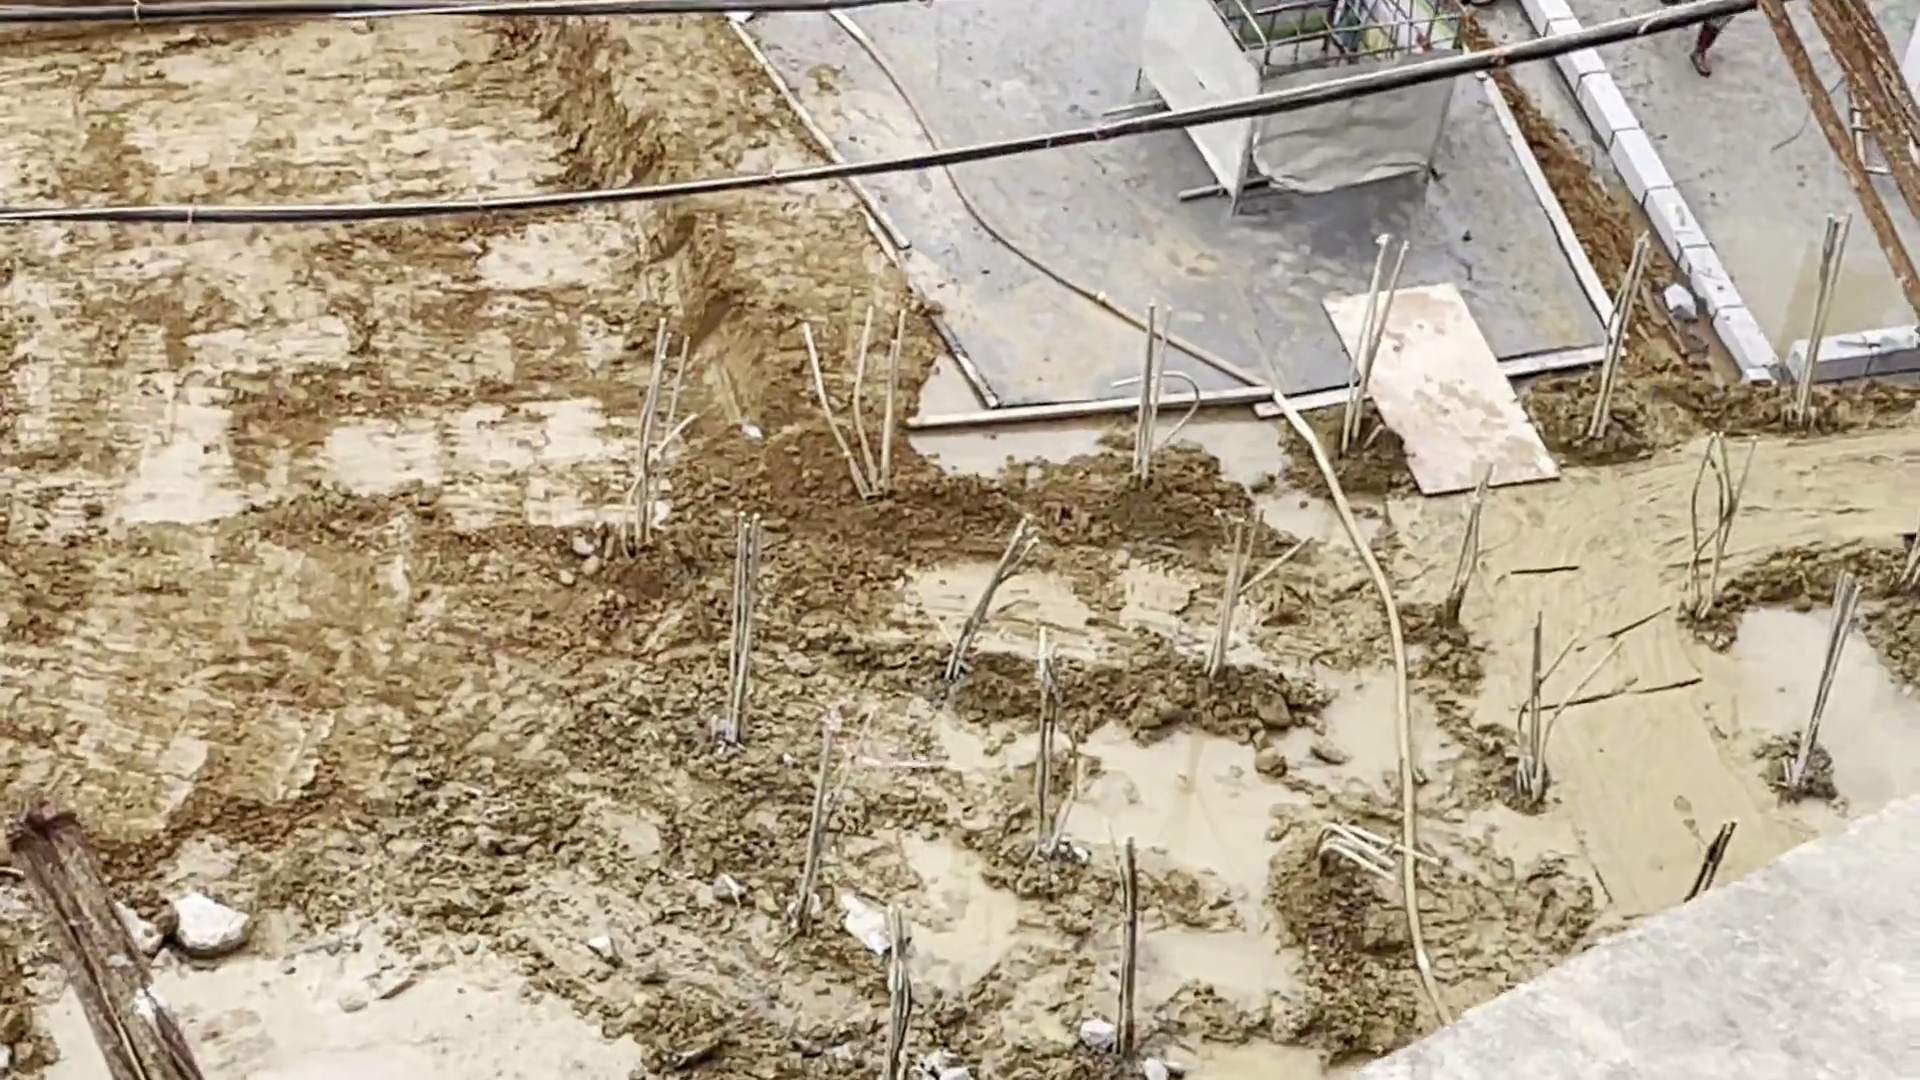brick: (1679, 235, 1764, 371), (1532, 1, 1610, 113), (1613, 117, 1687, 228), (1789, 331, 1920, 371)
